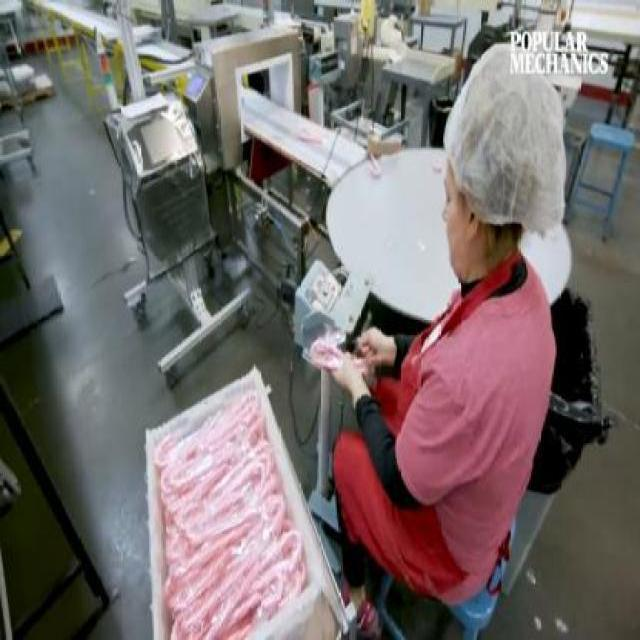bare_hand: (352, 312, 406, 382), (327, 349, 369, 406)
